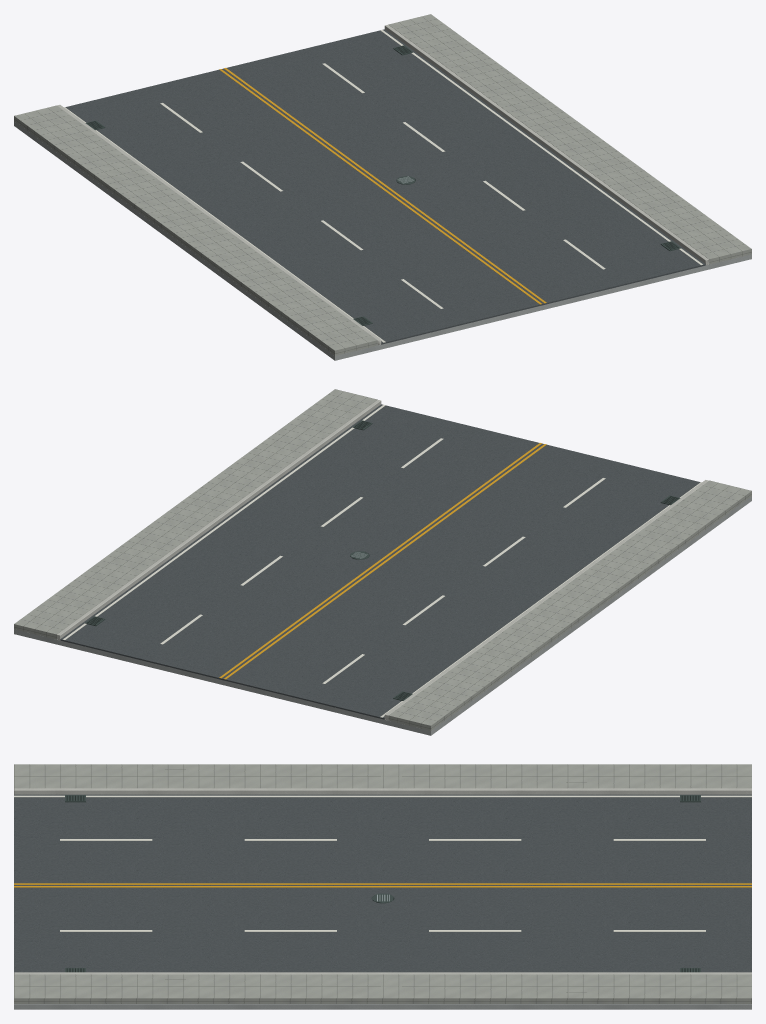
The model's file is road-straight.glb.
3 renders of one model, top to bottom at view 1: azimuth 30°, elevation 25°; view 2: azimuth 150°, elevation 25°; view 3: azimuth 270°, elevation 25°, orthographic. The views are drawn at different scales.
Parts seen in each view (by area): view 1: road-straight_bituminous-asphalt, road-straight_concrete-pavers, road-straight_cast-concrete, road-straight_light-precast-concrete, road-straight_off-white-painted, road-straight_safety-yellow, road-straight_powder-coated-frame; view 2: road-straight_bituminous-asphalt, road-straight_concrete-pavers, road-straight_cast-concrete, road-straight_light-precast-concrete, road-straight_off-white-painted, road-straight_safety-yellow, road-straight_powder-coated-frame; view 3: road-straight_bituminous-asphalt, road-straight_concrete-pavers, road-straight_light-precast-concrete, road-straight_cast-concrete, road-straight_off-white-painted, road-straight_safety-yellow, road-straight_powder-coated-frame.
Part boxes in pixels (left/top/right/bottom): road-straight_bituminous-asphalt: left=65, top=29, right=705, bottom=344; road-straight_concrete-pavers: left=14, top=14, right=751, bottom=355; road-straight_cast-concrete: left=14, top=121, right=751, bottom=360; road-straight_light-precast-concrete: left=57, top=24, right=709, bottom=345; road-straight_off-white-painted: left=64, top=29, right=702, bottom=342; road-straight_safety-yellow: left=219, top=68, right=546, bottom=304; road-straight_powder-coated-frame: left=85, top=45, right=680, bottom=325; road-straight_bituminous-asphalt: left=60, top=404, right=700, bottom=719; road-straight_concrete-pavers: left=14, top=389, right=751, bottom=730; road-straight_cast-concrete: left=14, top=496, right=751, bottom=735; road-straight_light-precast-concrete: left=56, top=399, right=708, bottom=720; road-straight_off-white-painted: left=63, top=404, right=701, bottom=717; road-straight_safety-yellow: left=219, top=443, right=546, bottom=679; road-straight_powder-coated-frame: left=85, top=420, right=680, bottom=700; road-straight_bituminous-asphalt: left=14, top=794, right=751, bottom=972; road-straight_concrete-pavers: left=14, top=764, right=751, bottom=1003; road-straight_light-precast-concrete: left=14, top=788, right=751, bottom=974; road-straight_cast-concrete: left=14, top=1004, right=751, bottom=1009; road-straight_off-white-painted: left=14, top=795, right=751, bottom=931; road-straight_safety-yellow: left=14, top=883, right=751, bottom=887; road-straight_powder-coated-frame: left=65, top=795, right=700, bottom=972.
Bounding box in the file's own units: 18 × 0.414 × 24.
9 materials, 5 textured.
